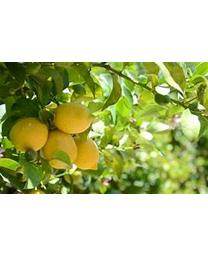lemon: (54, 102, 95, 132), (11, 118, 48, 151), (43, 134, 77, 168), (74, 136, 98, 170)
